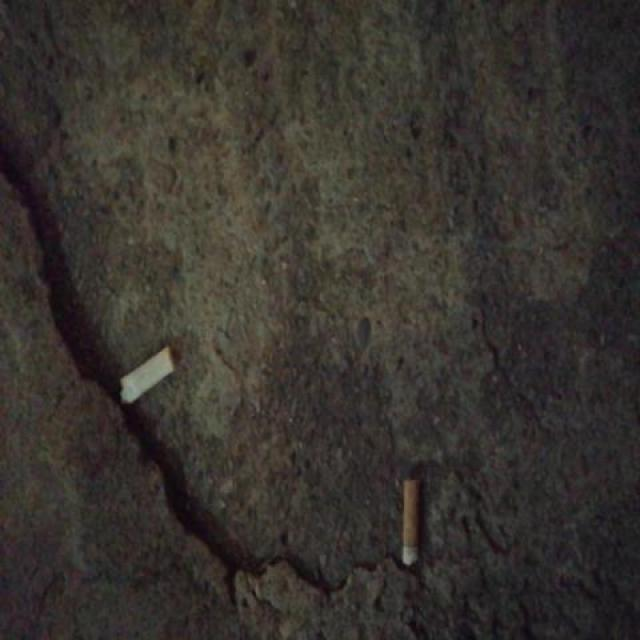non-organic waste: (118, 338, 182, 411), (399, 476, 421, 569)
